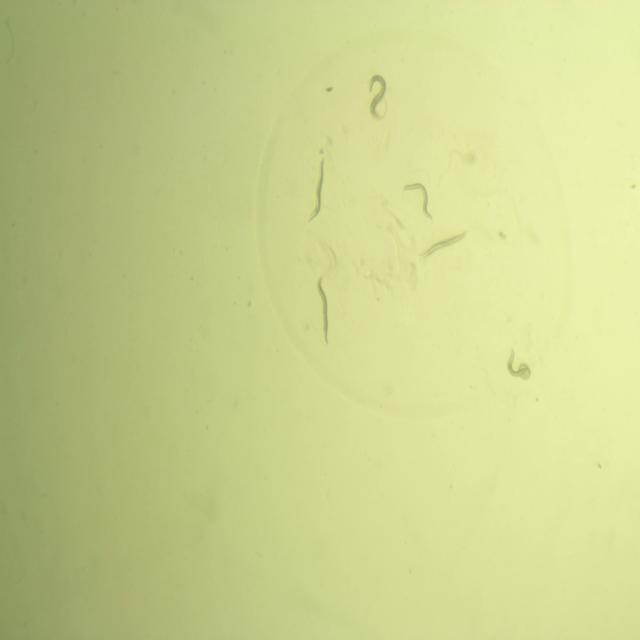worm: (416, 222, 471, 264), (304, 153, 330, 229), (362, 72, 396, 124), (311, 271, 333, 345), (400, 181, 437, 223), (502, 343, 536, 386)
